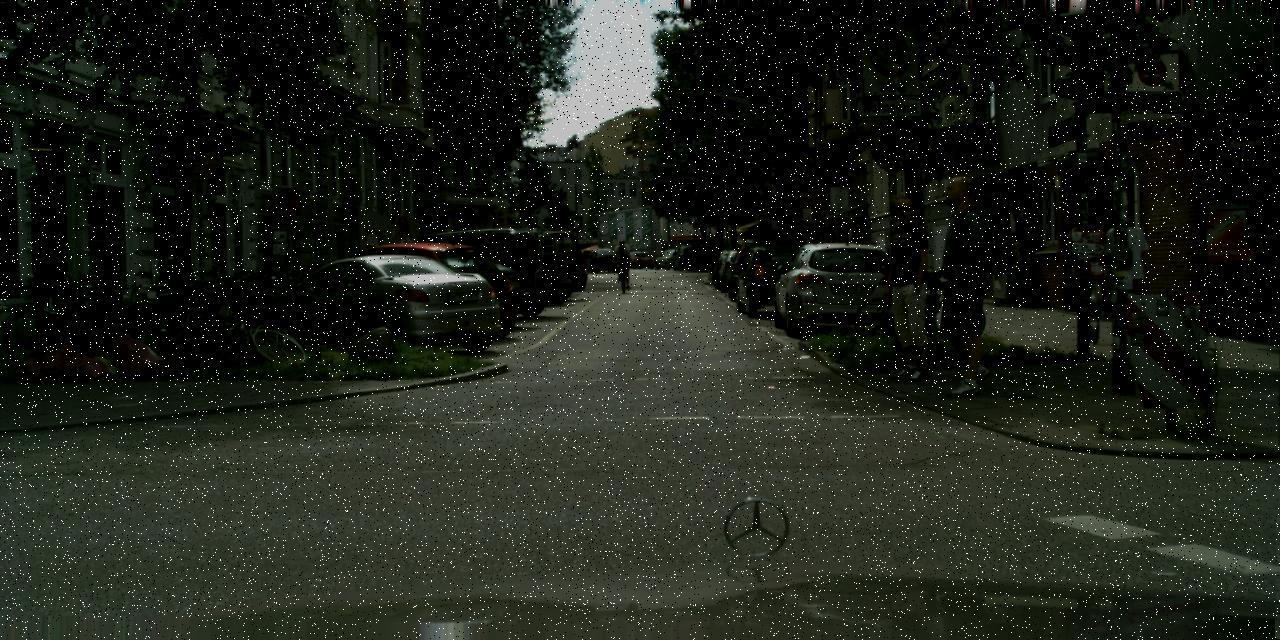ped: (920, 175, 1010, 396), (868, 196, 944, 380), (1102, 212, 1153, 337), (850, 232, 874, 294), (842, 236, 866, 294), (799, 239, 822, 296), (612, 238, 632, 284), (824, 239, 834, 242)
